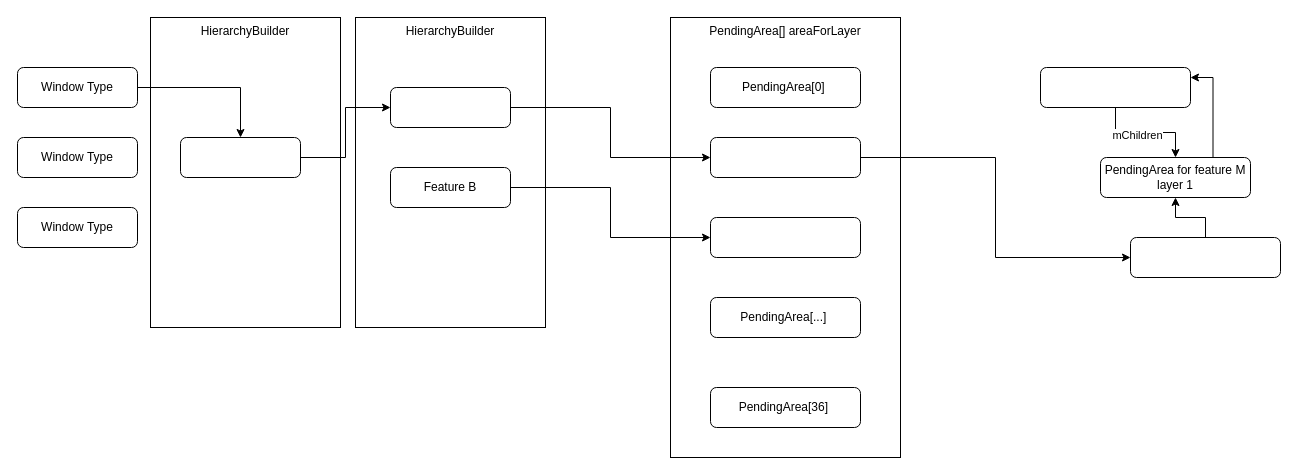
The diagram is 1298 pixels wide and 475 high, and some of its shapes have lost their labels. Here are the shapes that lost their labels. From the top down, the centre of each, then its label:
[450,107]: Feature A 包含Layer ID
[1115,87]: PendingArea for feature N, layer 1
[240,157]: Layer ID
[785,157]: PendingArea[1]
[785,237]: PendingArea[2]
[1205,257]: PendingArea for leaf
